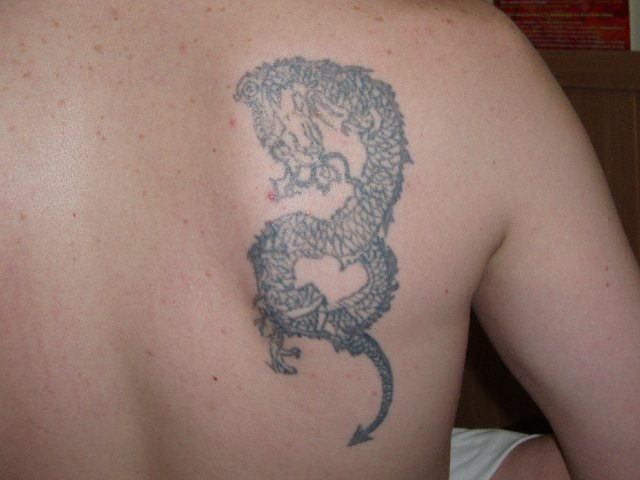tatu6_drakon: (203, 46, 432, 456)
